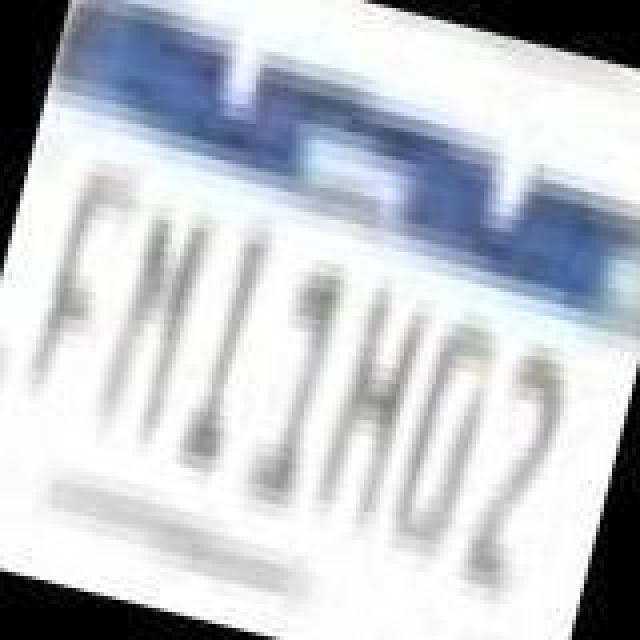1: (238, 244, 354, 508)
2: (456, 336, 584, 600)
D: (384, 304, 512, 560)
F: (16, 154, 144, 414)
H: (304, 272, 440, 544)
I: (170, 232, 278, 472)
M: (86, 200, 218, 456)
